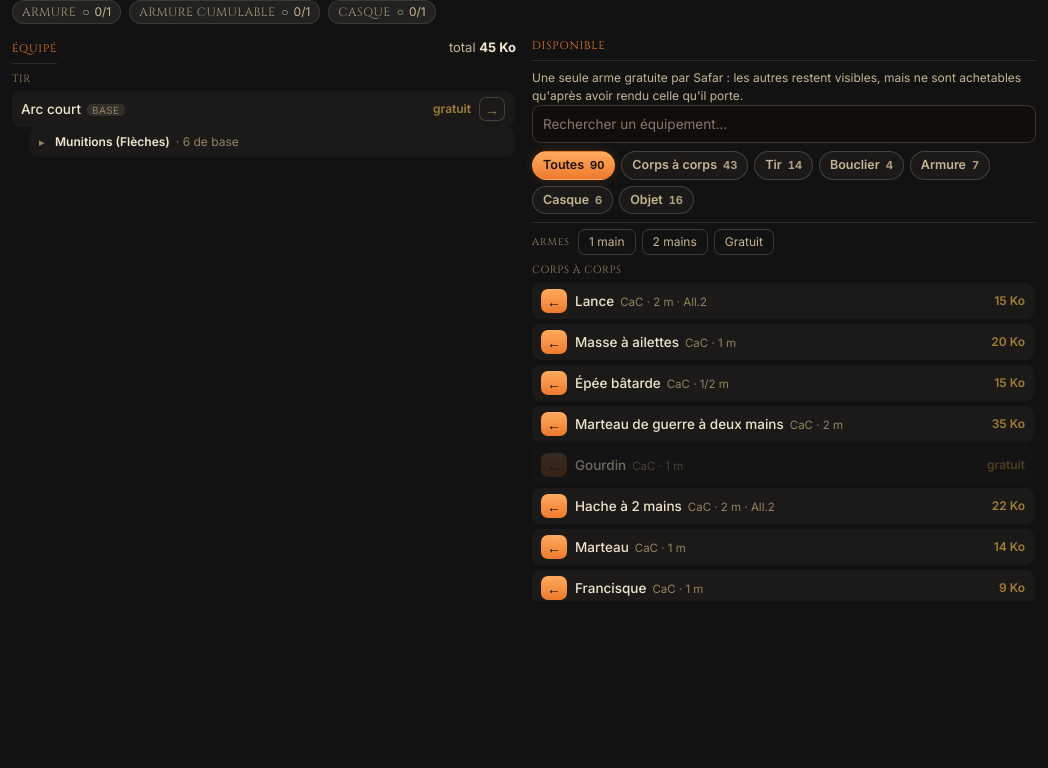
it: EquipPanel (vue) › munitions interdites sur une arme gratuite › l'Arc court gratuit ne propose pas la Flèche hydre, mais garde les autres types
Step 1. Click the button with class "fe-mun-head" → (88, 142), box [39,133,505,151]
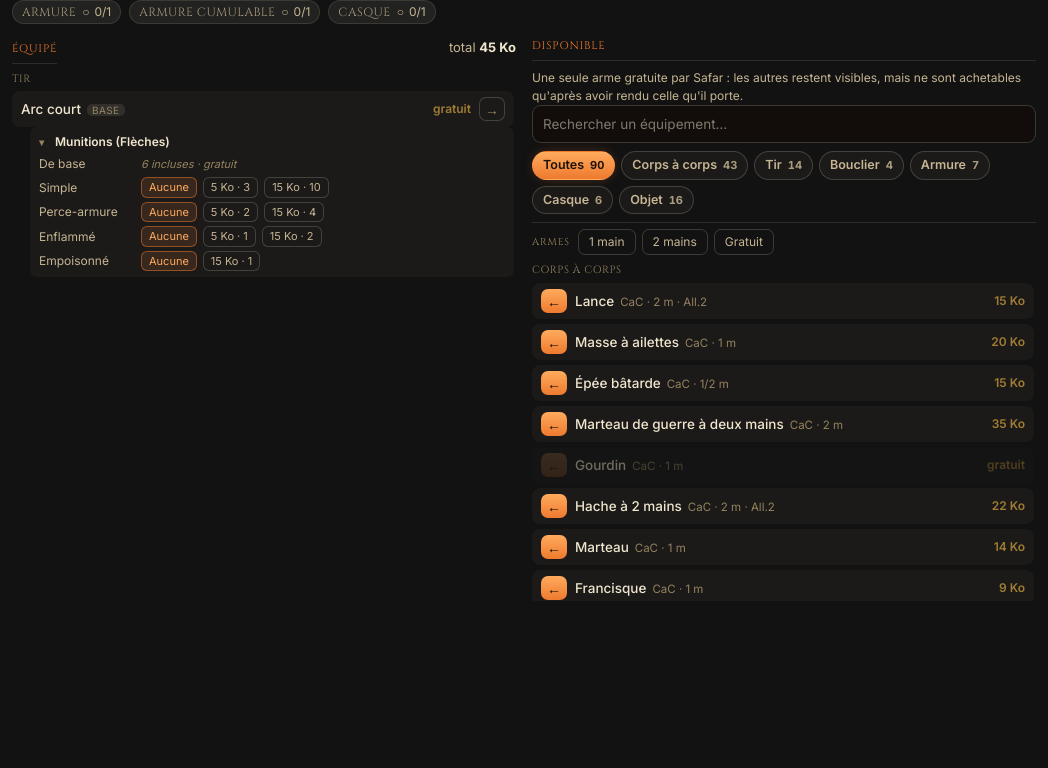
Now the text "Perce-armure" is shown, box [39,204,118,219]
